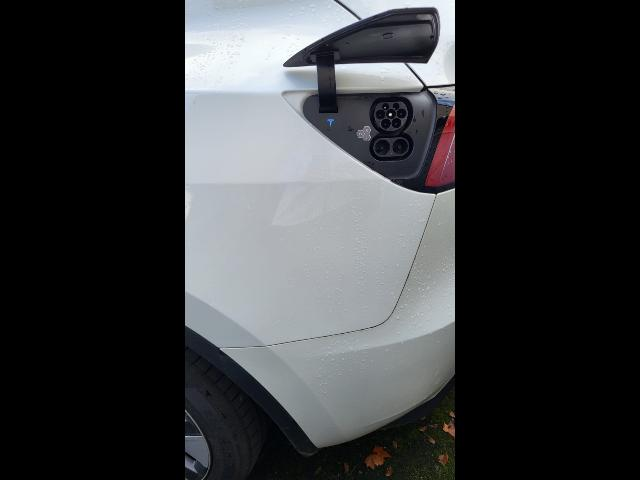inlet: (374, 102, 408, 131)
inlet-above-left: (382, 103, 389, 110)
inlet-above-right: (393, 103, 399, 109)
inlet-below-left: (381, 119, 391, 129)
inlet-below-right: (392, 118, 401, 128)
inlet-circle: (386, 109, 396, 119)
inlet-circle-left: (376, 109, 385, 120)
inlet-circle-right: (397, 108, 406, 118)
inlet-minus: (392, 139, 408, 154)
inlet-plus: (375, 139, 390, 156)
